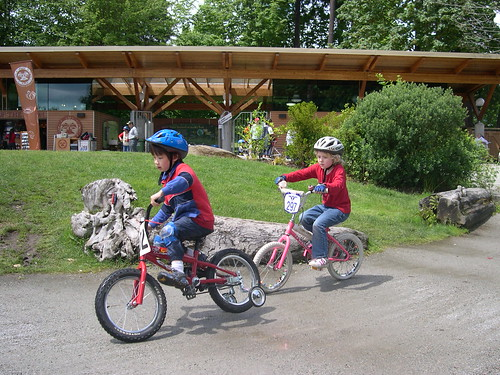helmet: (145, 120, 192, 151), (312, 132, 347, 151)
